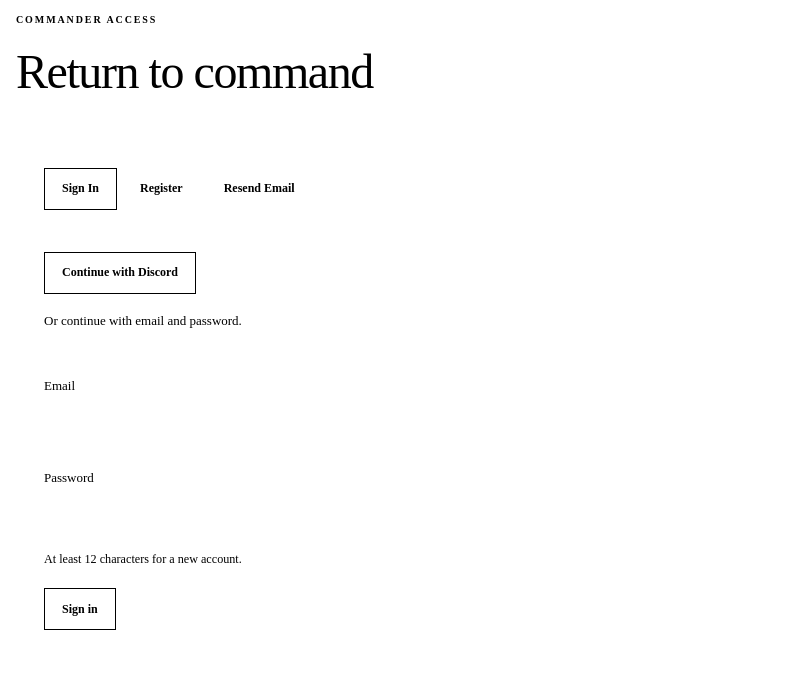
Test: Discord sign-in › uses Discord and the application redirect without requiring email or password
Click the button "Continue with Discord": (120, 273) [44, 252, 196, 294]
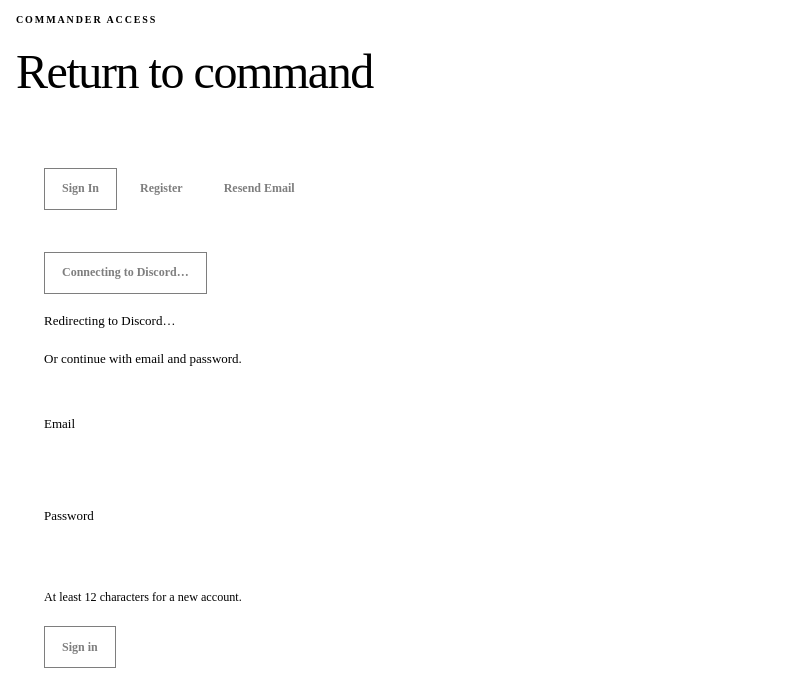
Check: the button "Connecting to Discord…" is disabled, box [44, 252, 207, 294]
Check: the message shows "Redirecting to Discord", box [44, 313, 175, 328]
Check: the button "Register" is disabled, box [122, 168, 201, 210]
